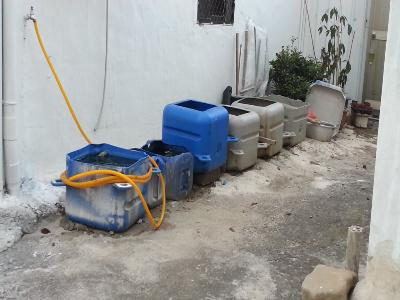bowl: (305, 115, 336, 142)
bucket: (64, 142, 149, 232), (161, 98, 230, 174), (144, 137, 195, 201), (232, 96, 285, 155), (215, 104, 259, 170)
plate: (306, 80, 347, 138)
